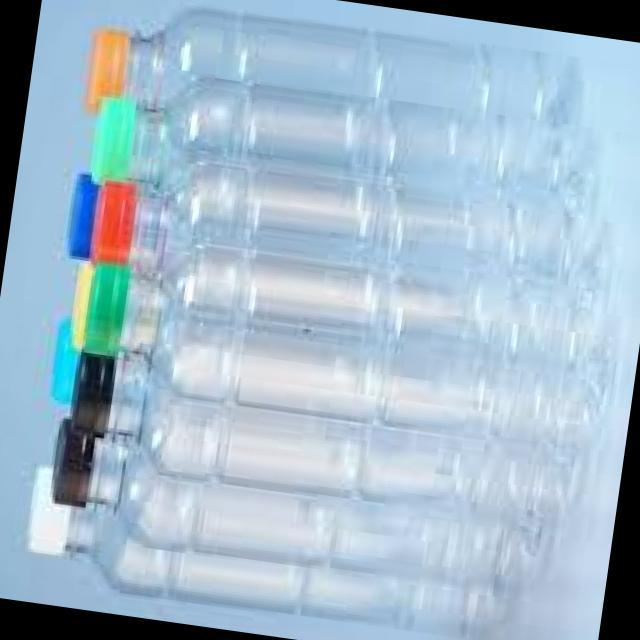good: (77, 20, 586, 256), (59, 237, 610, 452), (85, 147, 611, 353), (8, 441, 539, 640), (55, 349, 596, 543), (34, 405, 546, 604), (68, 0, 565, 177)
